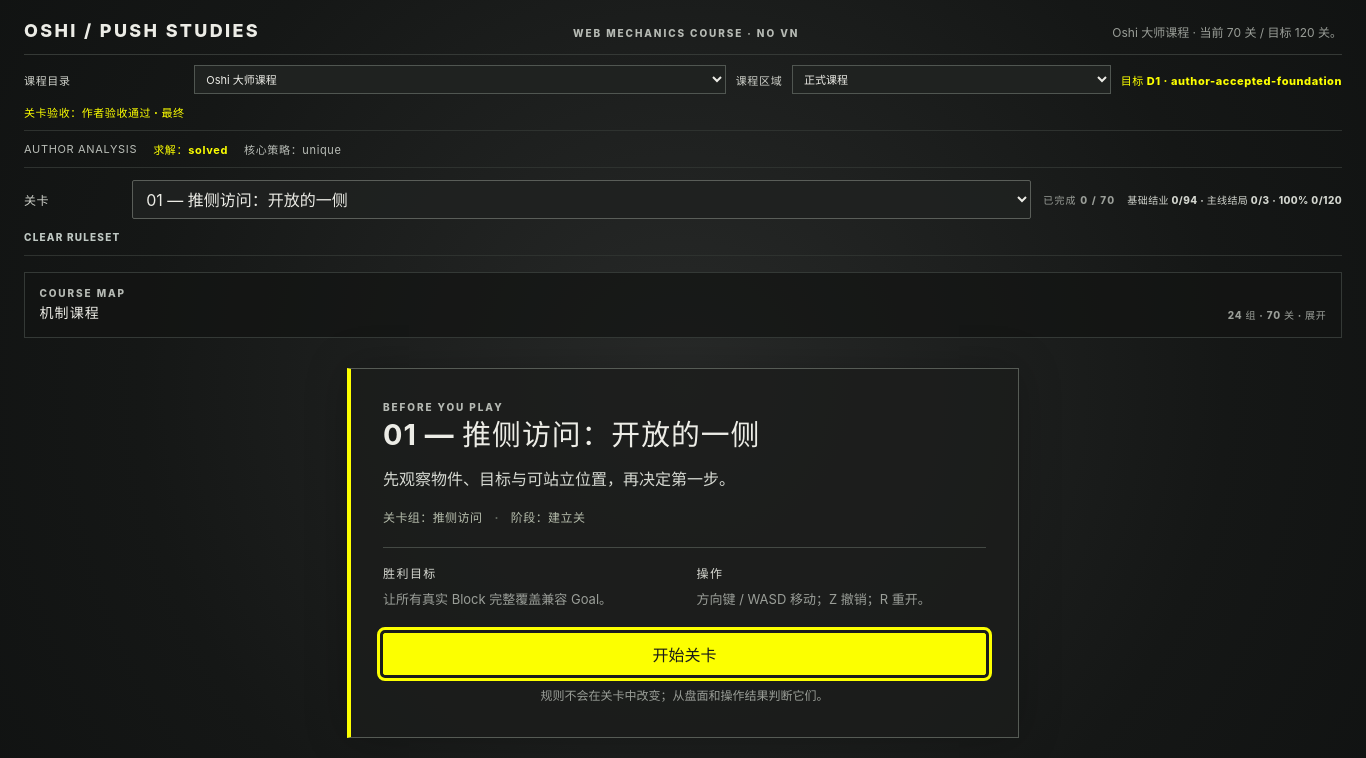
it: laboratory learning and author ratings › separates preserved learning chains from archived experiments without renumbering them
Select "开发实验室" in the dropdown labelled "课程区域": [952, 80] box [792,65,1111,94]
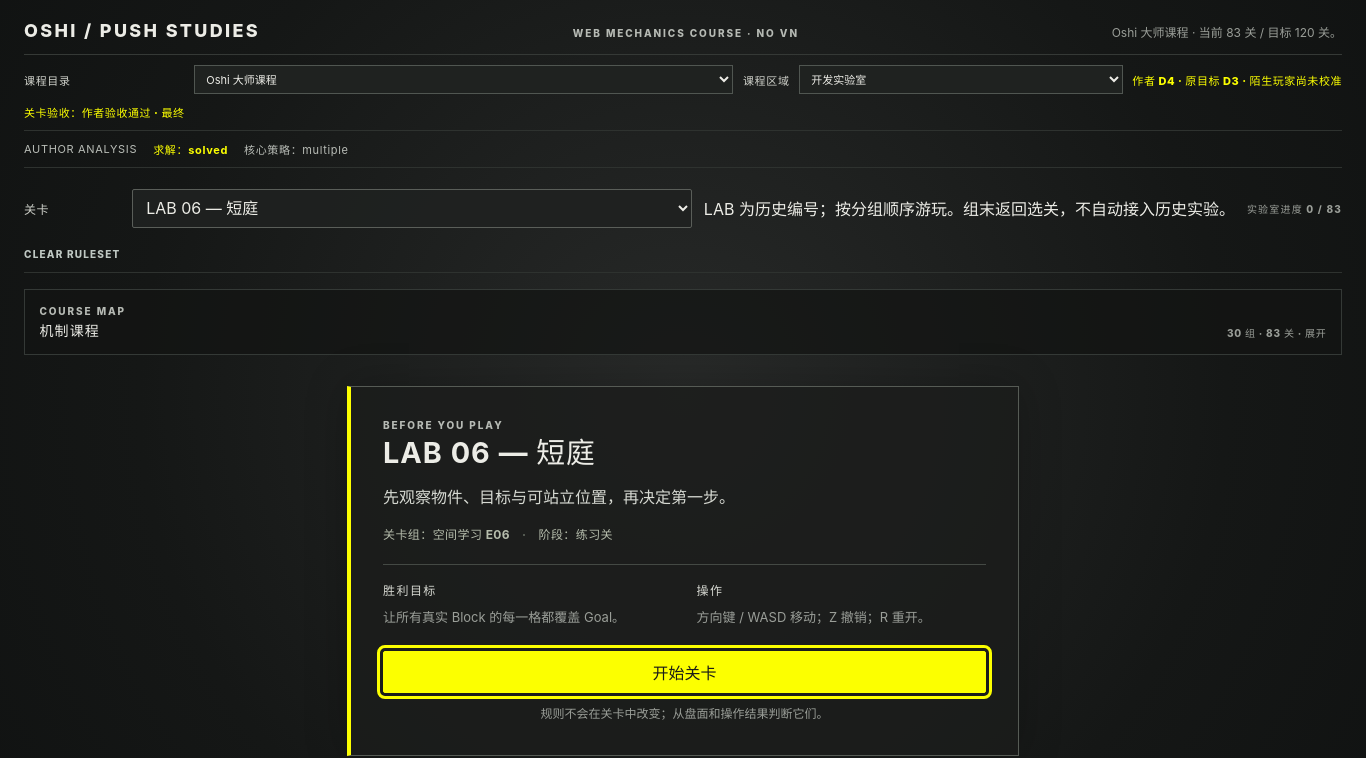
Check: the dropdown labelled "关卡" shows "LAB 06 — 短庭", box [132,189,692,228]
